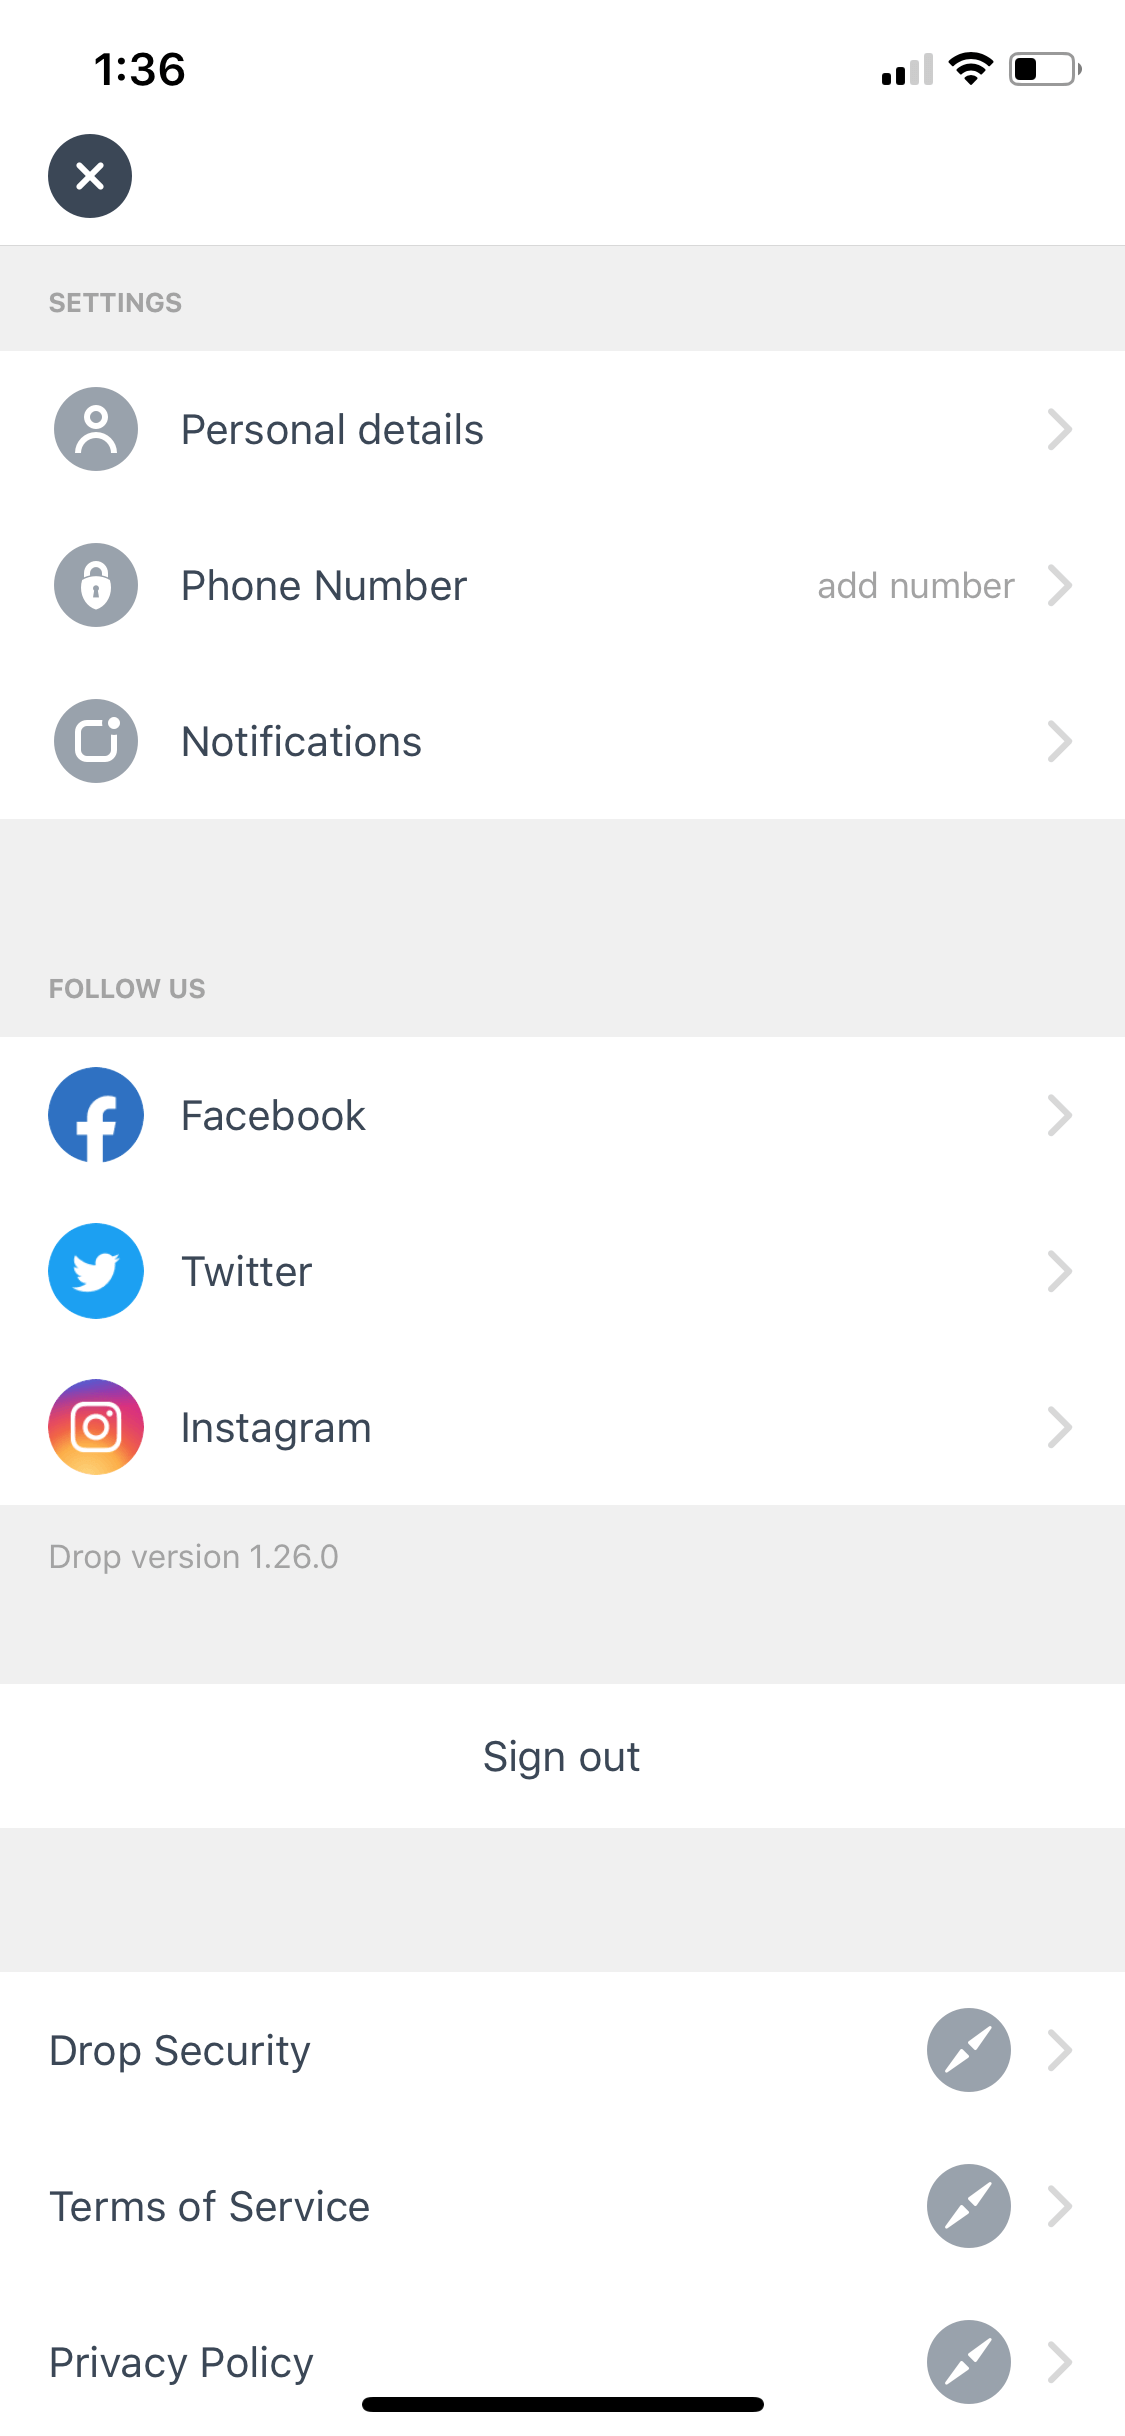Buttons: (2, 1667, 1125, 1852), (12, 103, 158, 241)
